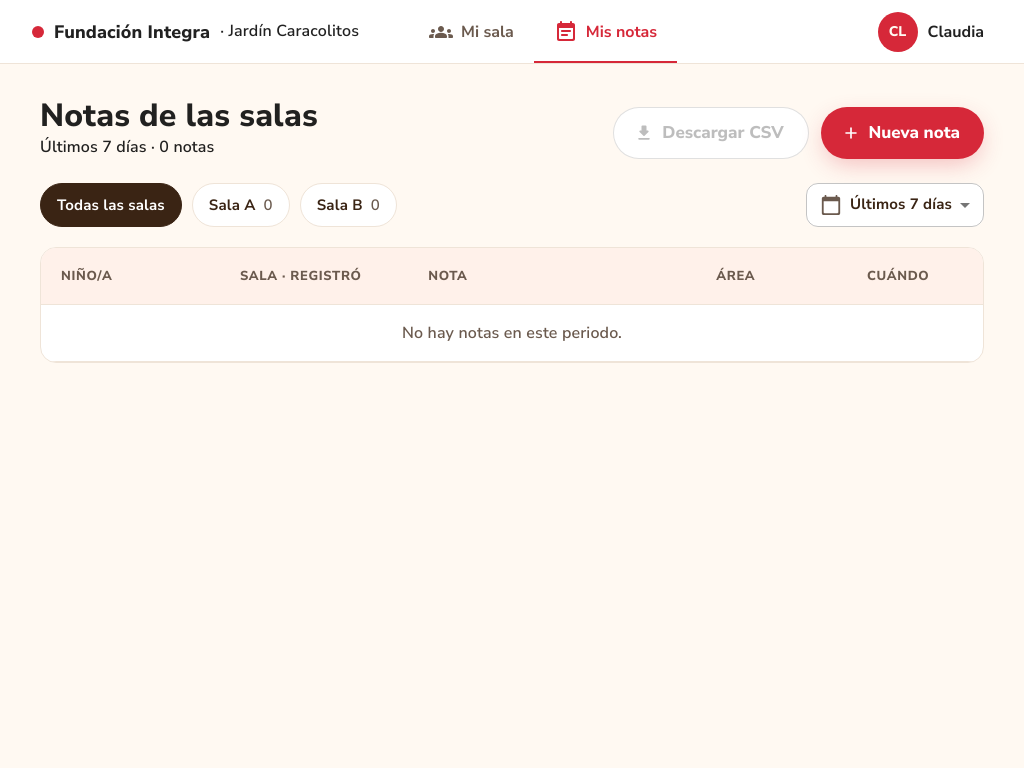
Test case: Pestañas de escritorio › Nueva nota de la cabecera pide elegir sin nadie preseleccionado
Click the tab "Mi sala": coordinates (471, 32) x1=409 y1=0 x2=534 y2=64
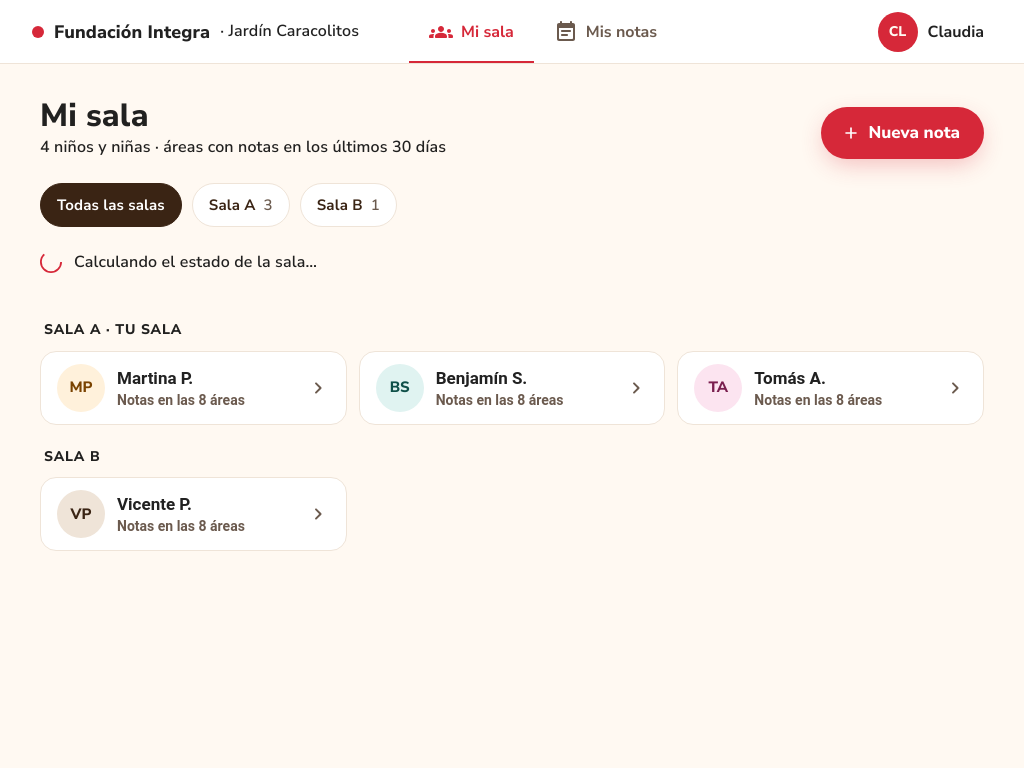
Click the button "Nueva nota": coordinates (902, 133) x1=820 y1=107 x2=984 y2=159
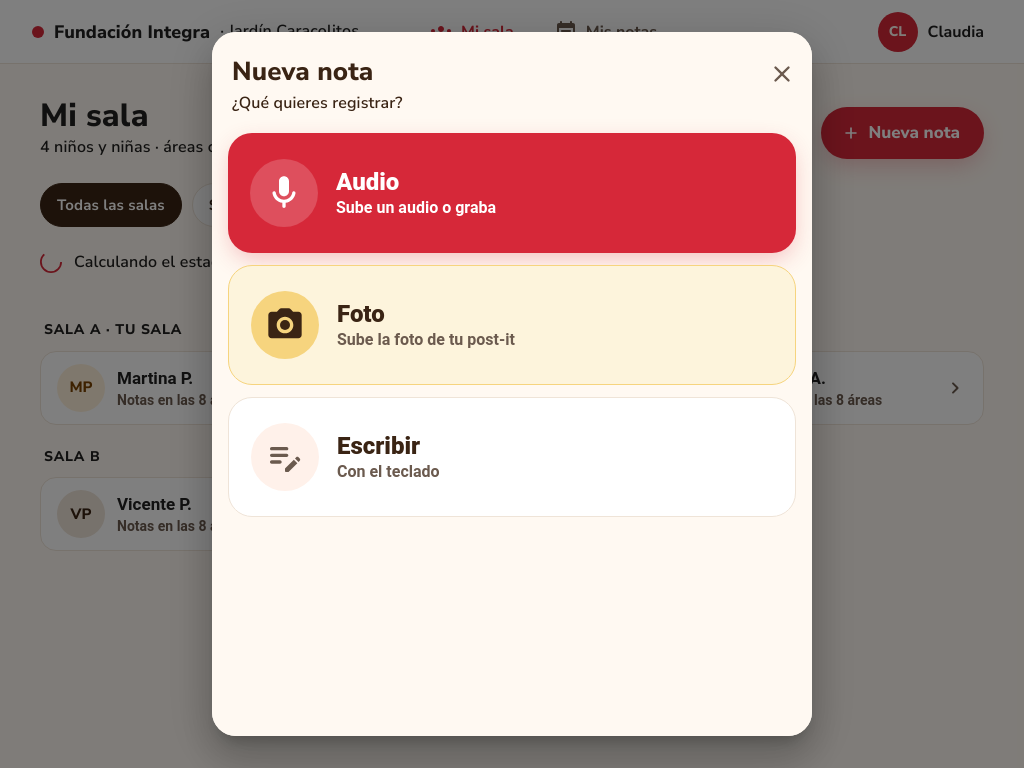
Click the button "Escribir Con el teclado": coordinates (285, 457) x1=228 y1=397 x2=796 y2=517
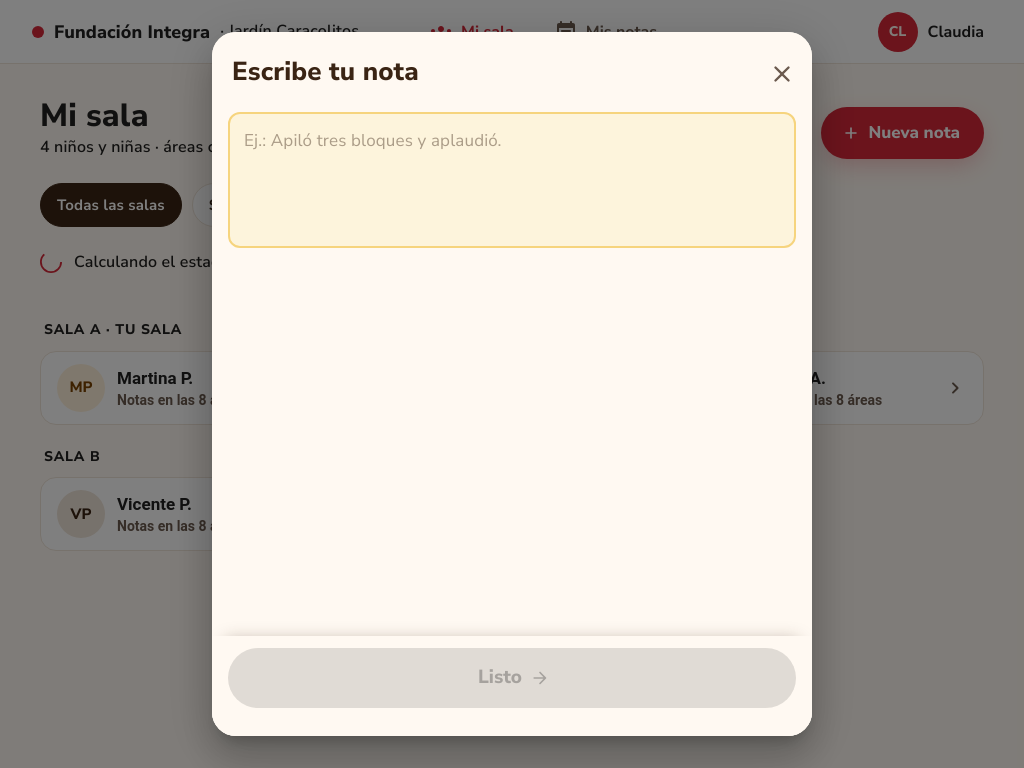
In the text box named "Texto de la nota": coordinates (512, 180) x1=244 y1=128 x2=780 y2=232, type "Apiló cinco bloques y aplaudió."
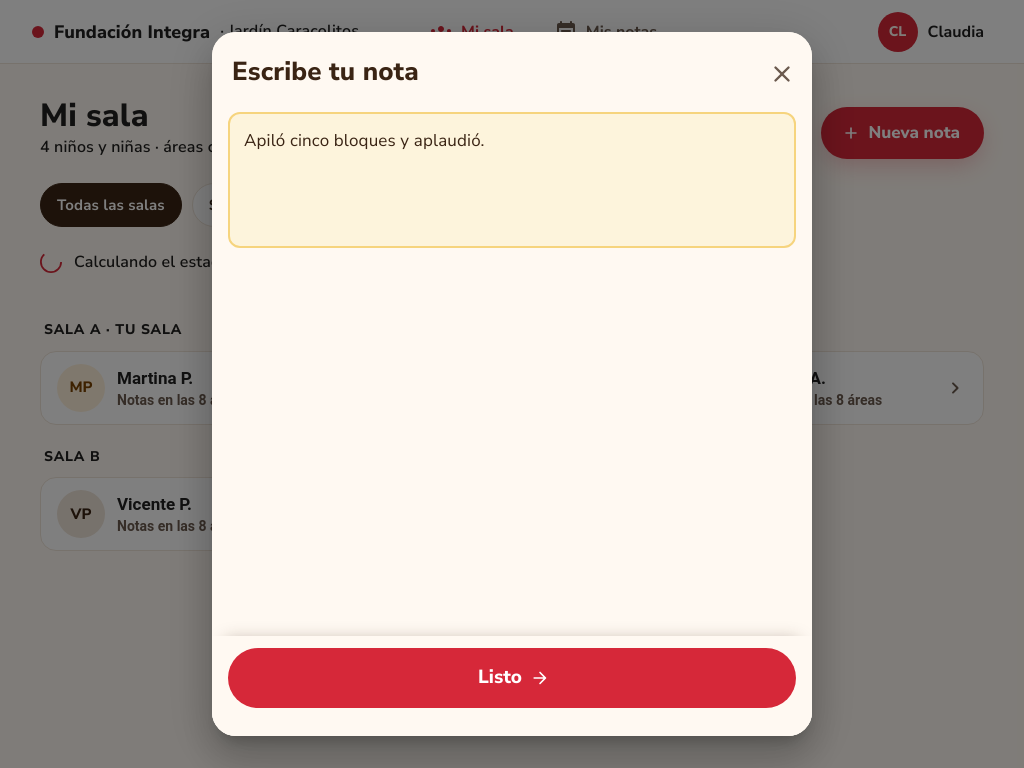
Click the button "Listo": coordinates (512, 678) x1=228 y1=648 x2=796 y2=708
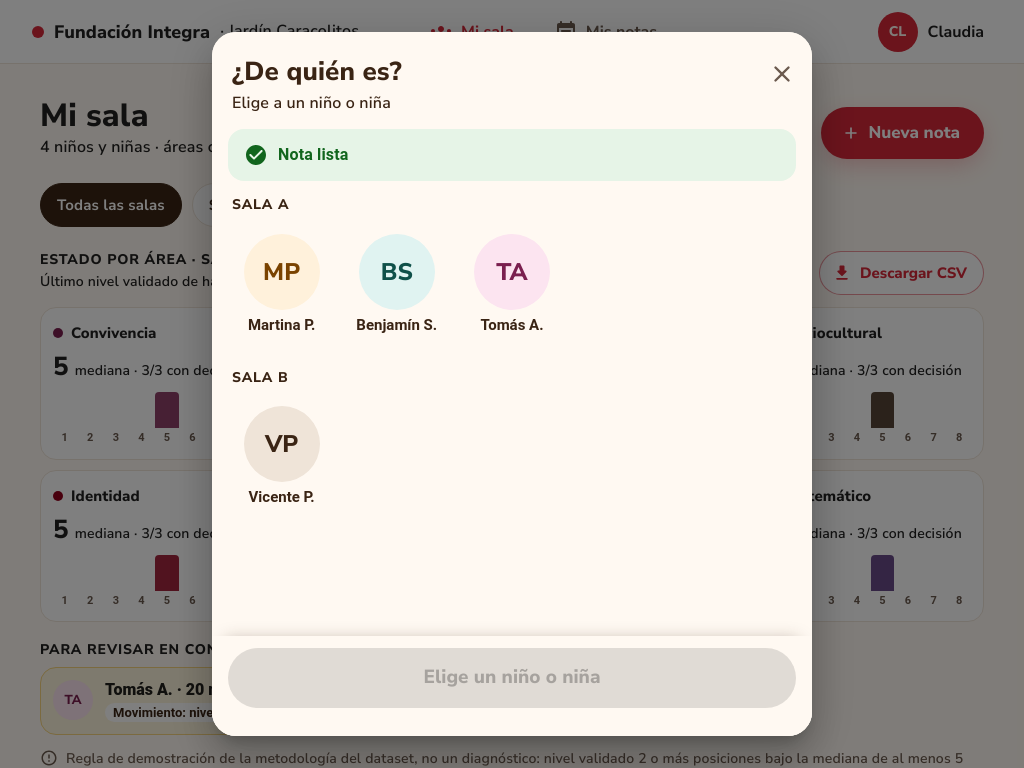
Expected: the heading "¿De quién es?" is shown, x1=232 y1=54 x2=402 y2=89
Expected: the button "Elige un niño o niña" is disabled, x1=228 y1=648 x2=796 y2=708
